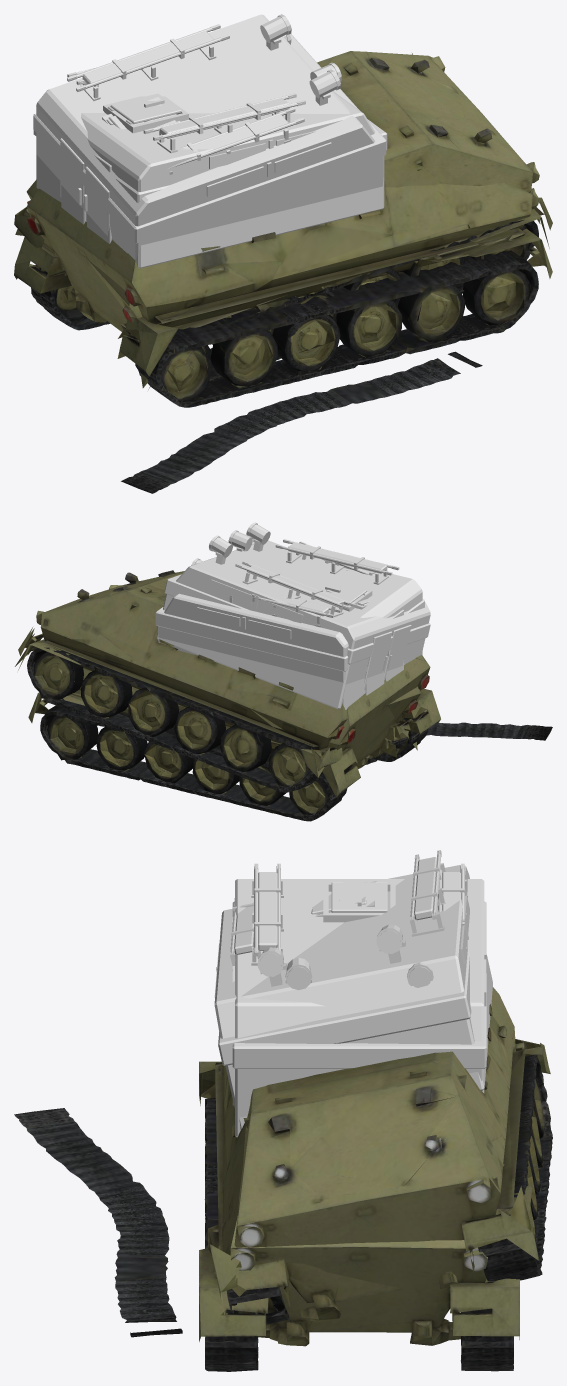
The model's file is veh_ambulance.glb.
3 renders of one model, top to bottom at view 1: azimuth 30°, elevation 25°; view 2: azimuth 150°, elevation 25°; view 3: azimuth 270°, elevation 25°, orthographic. The views are drawn at different scales.
Parts seen in each view (by area): view 1: hull_hull, hull_rubber, WRECK_medical_hull, WRECK_hull_hull, medical_hull, WRECK_hull_rubber, WRECK_medical_plate, WRECK_medical_metal, medical_metal, medical_plate, WRECK_medical_glass, medical_glass; view 2: WRECK_hull_hull, WRECK_hull_rubber, hull_rubber, WRECK_medical_hull, medical_hull, hull_hull, medical_plate, medical_metal, WRECK_medical_plate, WRECK_medical_metal, WRECK_medical_glass, medical_glass; view 3: WRECK_hull_hull, hull_hull, WRECK_hull_rubber, WRECK_medical_hull, medical_hull, hull_rubber, WRECK_medical_plate, medical_plate, medical_metal, WRECK_medical_metal, WRECK_medical_glass, medical_glass.
Part boxes in pixels (x1,y1,x2,y2): hull_hull: (15, 169, 549, 370); hull_rubber: (14, 241, 552, 407); WRECK_medical_hull: (36, 14, 383, 260); WRECK_hull_hull: (15, 51, 549, 389); medical_hull: (36, 74, 384, 268); WRECK_hull_rubber: (14, 53, 552, 493); WRECK_medical_plate: (33, 31, 386, 243); WRECK_medical_metal: (67, 14, 340, 211); medical_metal: (67, 34, 341, 193); medical_plate: (33, 71, 387, 202); WRECK_medical_glass: (206, 15, 340, 196); medical_glass: (209, 34, 341, 168); WRECK_hull_hull: (15, 570, 420, 777); WRECK_hull_rubber: (18, 627, 552, 792); hull_rubber: (28, 694, 440, 821); WRECK_medical_hull: (156, 540, 430, 709); medical_hull: (158, 540, 422, 709); hull_hull: (32, 655, 440, 785); medical_plate: (155, 542, 424, 671); medical_metal: (192, 530, 399, 662); WRECK_medical_plate: (164, 559, 430, 664); WRECK_medical_metal: (209, 522, 392, 670); WRECK_medical_glass: (209, 524, 303, 623); medical_glass: (191, 531, 291, 639); WRECK_hull_hull: (218, 987, 550, 1326); hull_hull: (199, 1061, 519, 1346); WRECK_hull_rubber: (14, 1039, 552, 1337); WRECK_medical_hull: (214, 865, 492, 1129); medical_hull: (235, 879, 484, 1137); hull_rubber: (199, 1074, 519, 1371); WRECK_medical_plate: (218, 857, 471, 1065); medical_plate: (232, 872, 486, 1068); medical_metal: (234, 863, 486, 990); WRECK_medical_metal: (216, 850, 468, 986); WRECK_medical_glass: (214, 895, 469, 997); medical_glass: (232, 919, 486, 1006).
Bounding box in the file's own units: 8.94 × 5.08 × 6.92.
1 material, 1 textured.
